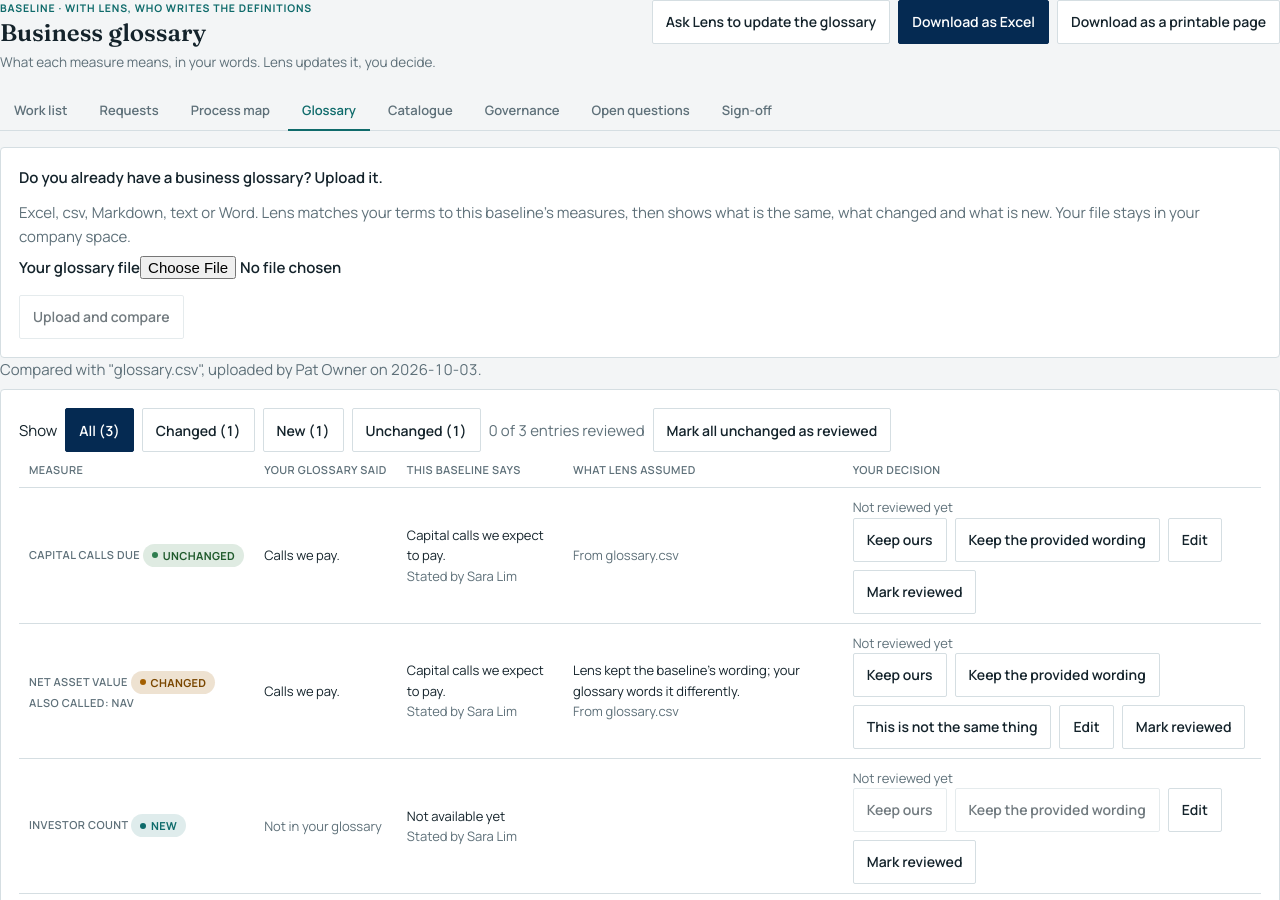
Test case: existing versus new › filters: all, changed, new, unchanged
expect the table is shown: met, box left=19, top=452, right=1261, bottom=894
Click the button "Changed (1)" at (198, 430), box left=142, top=408, right=255, bottom=452
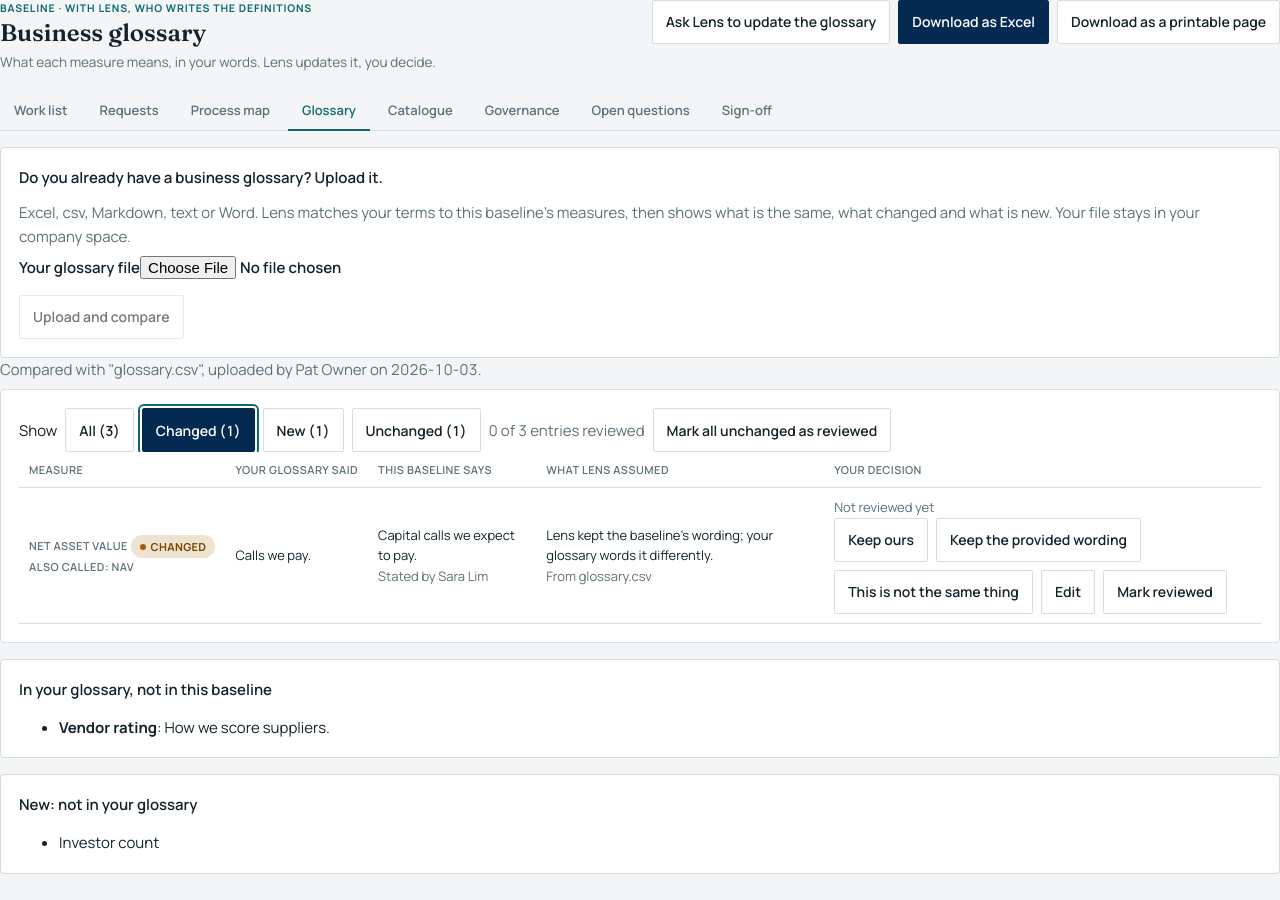
expect the column heading "Net asset value Changed Also called: NAV" is shown: met, box left=19, top=488, right=225, bottom=623
expect the column heading "Capital calls due" is gone: met
Click the button "New (1)" at (303, 430), box left=263, top=408, right=344, bottom=452
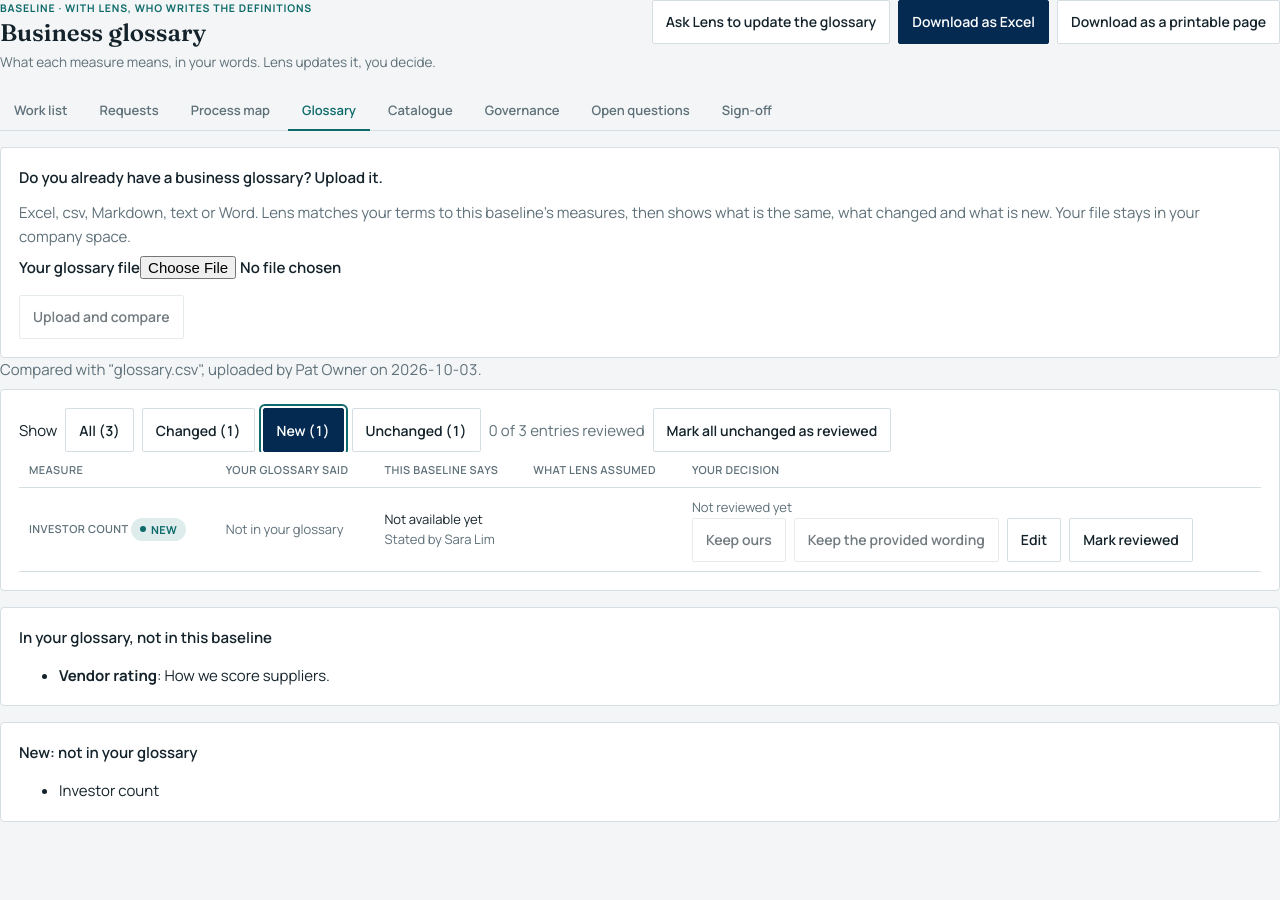
expect the column heading "Investor count New" is shown: met, box left=19, top=488, right=216, bottom=571
expect the column heading "Net asset value" is gone: met
Click the button "Unchanged (1)" at (416, 430), box left=352, top=408, right=480, bottom=452
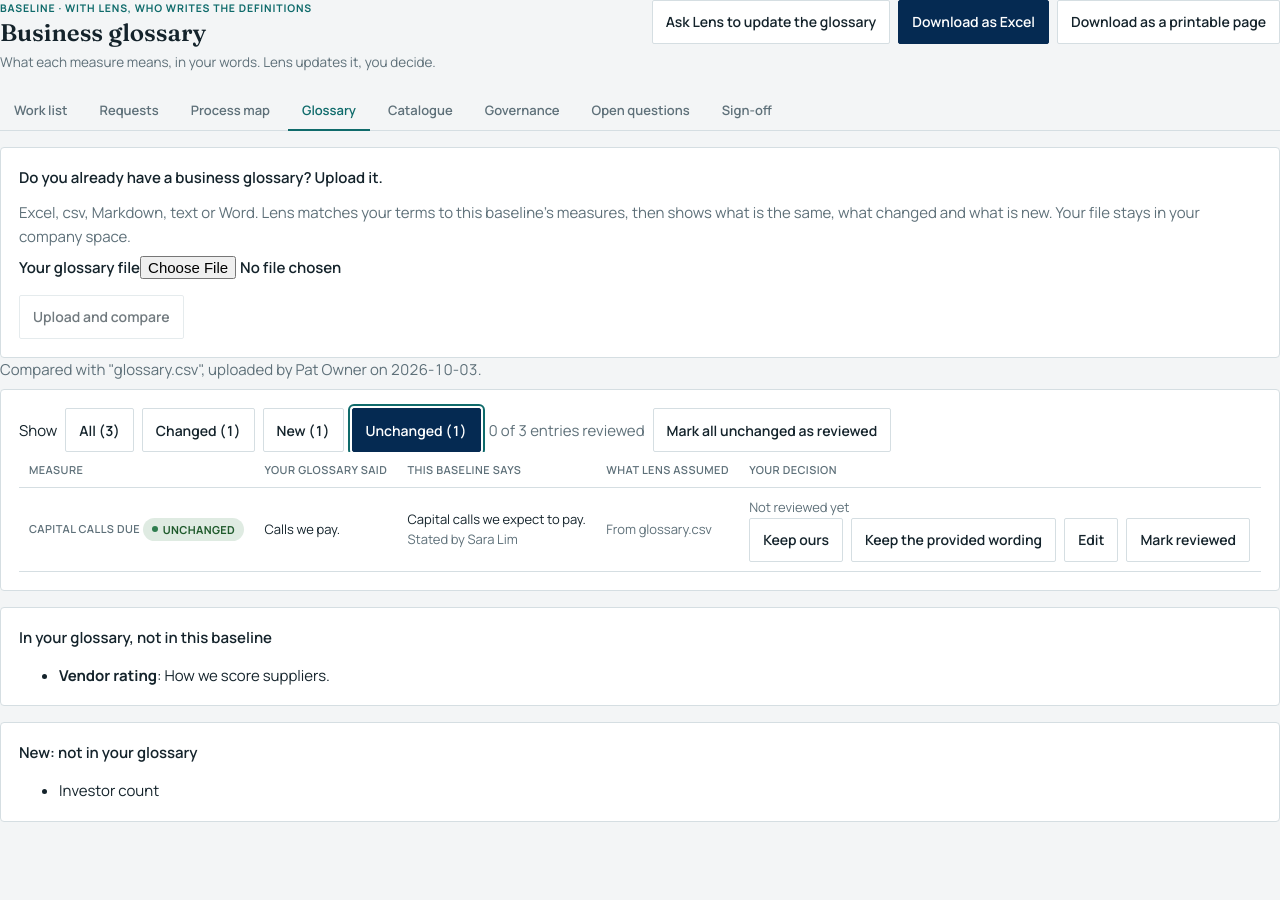
expect the column heading "Capital calls due Unchanged" is shown: met, box left=19, top=488, right=254, bottom=571
